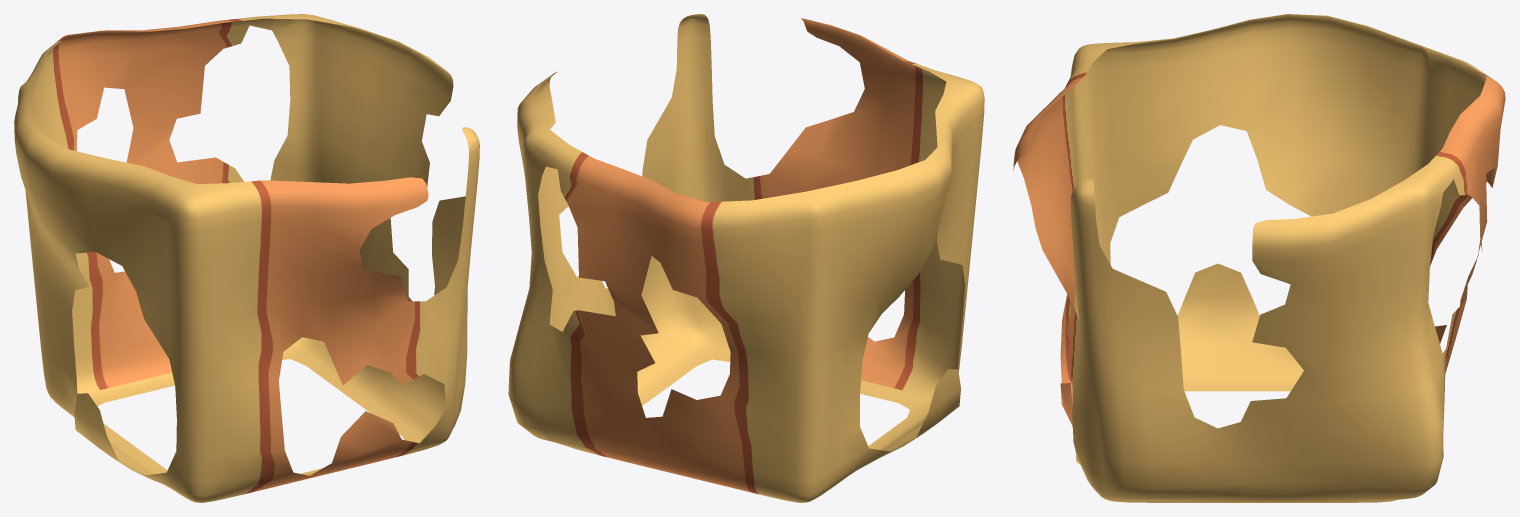
The model's file is destroyedbox.fbx.
3 renders of one model, left to right at view 1: azimuth 30°, elevation 25°; view 2: azimuth 150°, elevation 25°; view 3: azimuth 270°, elevation 25°, orthographic. The views are drawn at different scales.
Visible parts, largest first — view 1: WoodenBlock; view 2: WoodenBlock; view 3: WoodenBlock.
Boxes of the visible parts, box(x1,y1,x2,y2) form: WoodenBlock: box(14, 14, 479, 502); WoodenBlock: box(508, 14, 984, 502); WoodenBlock: box(1013, 14, 1505, 502).
Bounding box in the file's own units: 264 × 202 × 267.
Materials: 1 (1 with a texture image).
